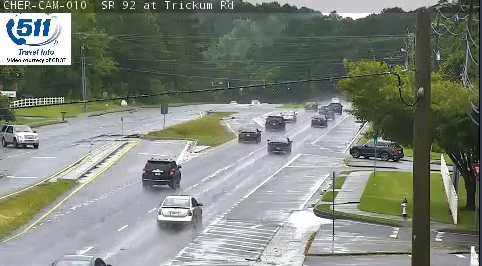car: (157, 196, 202, 226), (142, 159, 181, 186), (266, 137, 291, 153), (239, 127, 261, 143), (265, 116, 286, 130), (318, 106, 335, 119), (310, 115, 327, 127), (280, 110, 296, 122)
